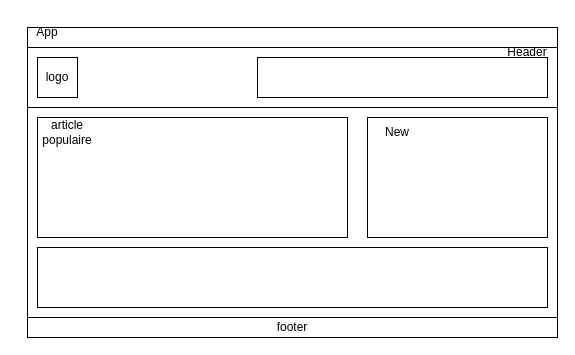
Some shapes in this 575 by 355 pixel diagram are drawn without their labels. Each missing label, with the box of its shape:
Articles: (36, 246, 548, 308)
navBar: (256, 56, 548, 98)
